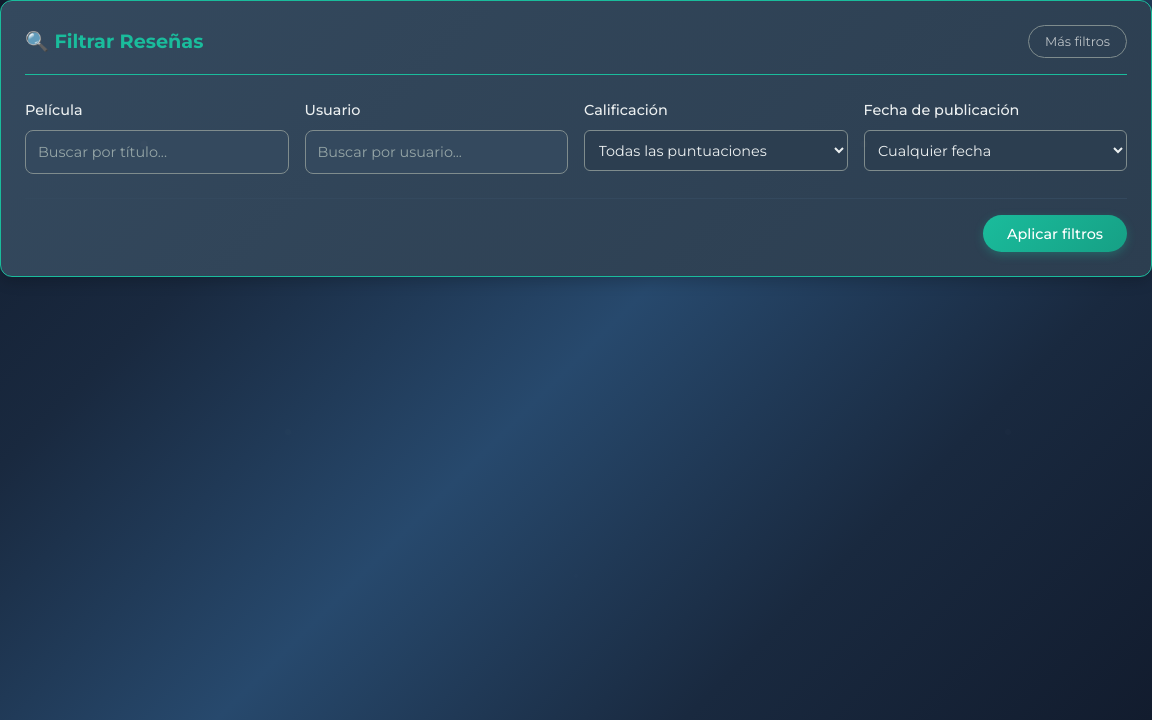
Test: FiltrosResenas › muestra filtros avanzados al hacer clic en "Más filtros"
Click the button "Más filtros" at (1078,42), box [1028,25,1127,58]
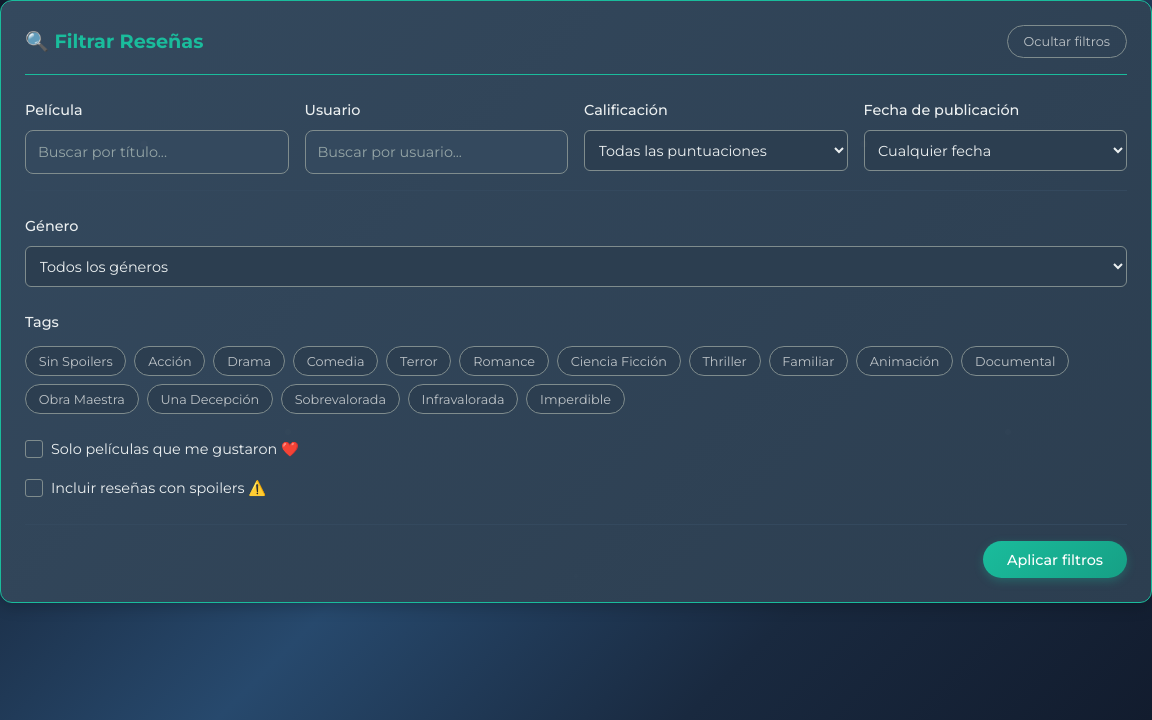
Expected: the dropdown below "Género" is shown, [25,246,1127,287]
Expected: the text "Tags" is shown, [25,313,59,331]
Expected: the checkbox "Solo películas que me gustaron ❤️" is shown, [25,438,299,461]
